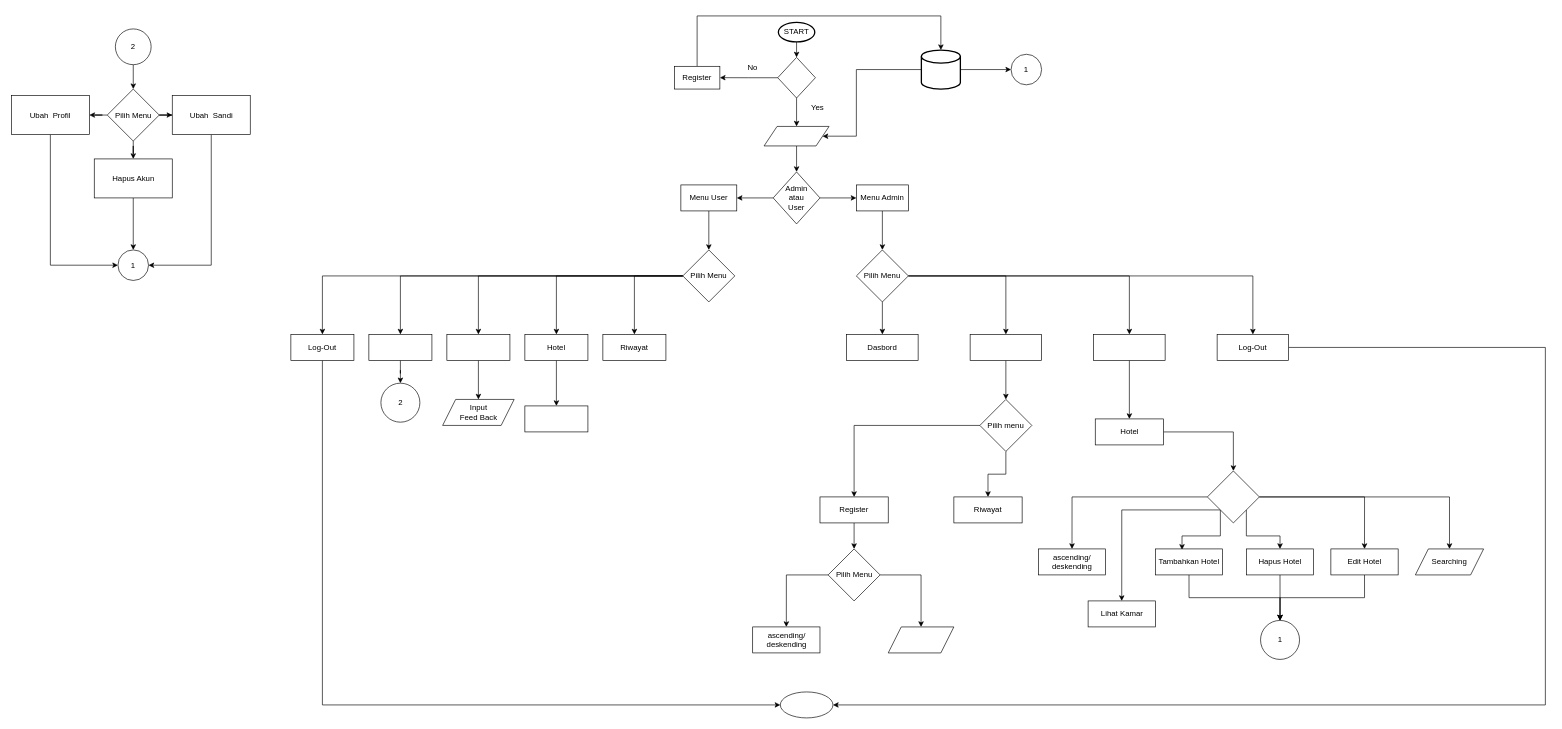
The diagram is 1562 pixels wide and 729 high, and some of its shapes have lost their labels. Here are the shapes that lost their labels. From the top down, the box of each, then its label:
(777, 57, 815, 98): punya akun?
(920, 49, 961, 89): hotel_xxviii
(763, 126, 829, 146): Login
(368, 334, 432, 360): Akun
(446, 334, 510, 360): Feed Back
(969, 334, 1042, 360): Info User
(1093, 334, 1165, 360): info Reservasi
(524, 405, 588, 432): Pesan Kamar
(1207, 470, 1259, 523): Menu
(888, 626, 954, 653): Serching
(780, 691, 833, 718): END
